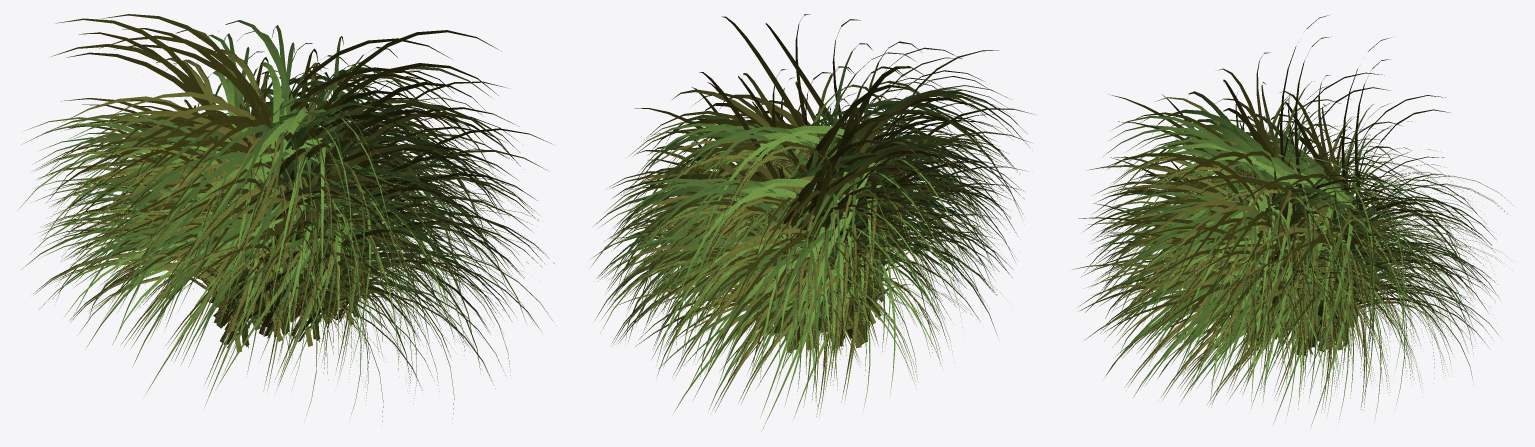
File: shrub.dae
The picture shows the model from 3 angles, left to right: view 1: azimuth 30°, elevation 25°; view 2: azimuth 150°, elevation 25°; view 3: azimuth 270°, elevation 25°; orthographic projection. The views are drawn at different scales.
Parts seen in each view (by area): view 1: Composant_1 (×13), instance_2 (×4), instance_5 (×3), instance_4 (×2), Composant_2; view 2: Composant_1 (×7), instance_5 (×6), instance_2 (×4), instance_4 (×3); view 3: instance_5 (×2), Composant_1 (×2), Composant_2.
Part boxes in pixels (<box>): Composant_1 (×13): <box>51,14,501,217</box>; instance_2 (×4): <box>96,92,519,200</box>; instance_5 (×3): <box>118,107,317,311</box>; instance_4 (×2): <box>107,136,501,223</box>; Composant_2: <box>136,153,254,272</box>; Composant_1 (×7): <box>699,16,932,254</box>; instance_5 (×6): <box>640,100,1022,374</box>; instance_2 (×4): <box>672,89,986,254</box>; instance_4 (×3): <box>611,90,1027,237</box>; instance_5 (×2): <box>1112,143,1304,227</box>; Composant_1 (×2): <box>1103,152,1259,210</box>; Composant_2: <box>1152,109,1263,149</box>.
Size of the model in its own units: 135 by 141 by 106.
